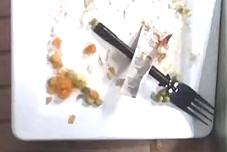peas: (47, 68, 121, 114)
